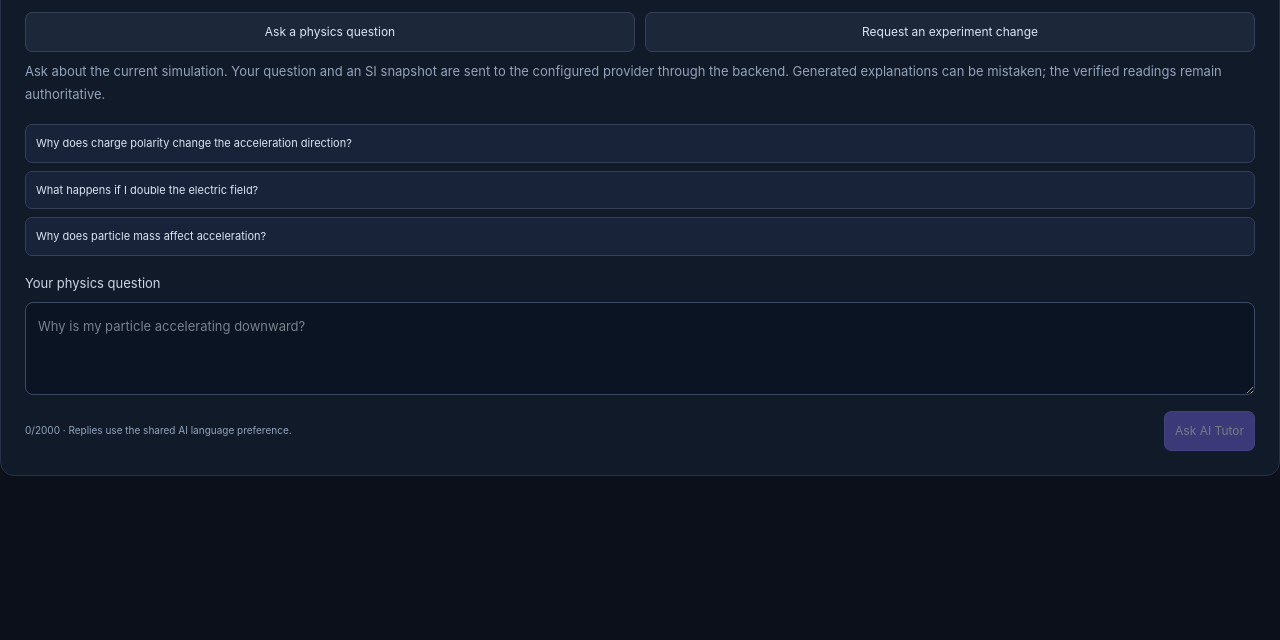
Test case: renders before/after physics without mutation and explicitly confirms
Click the button "Request an experiment change" at {"x": 950, "y": 32}, box 645,12 -> 1255,52
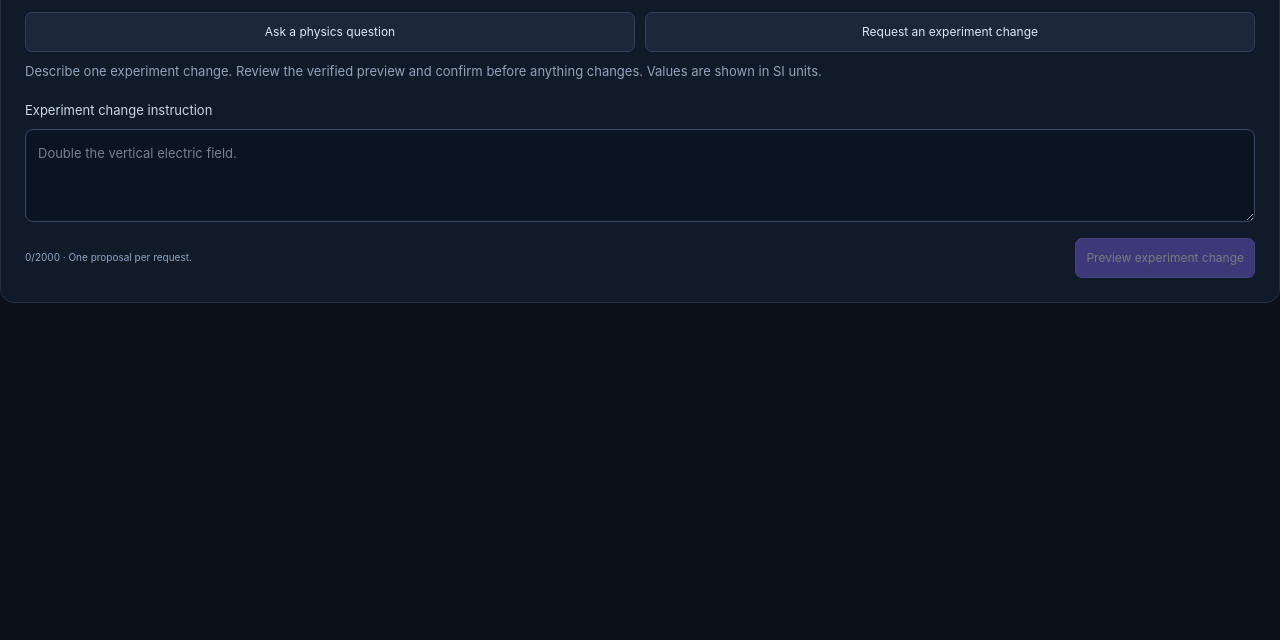
Type "Double Ey." into the text box labelled "Experiment change instruction" at {"x": 640, "y": 176}, box 25,129 -> 1255,222
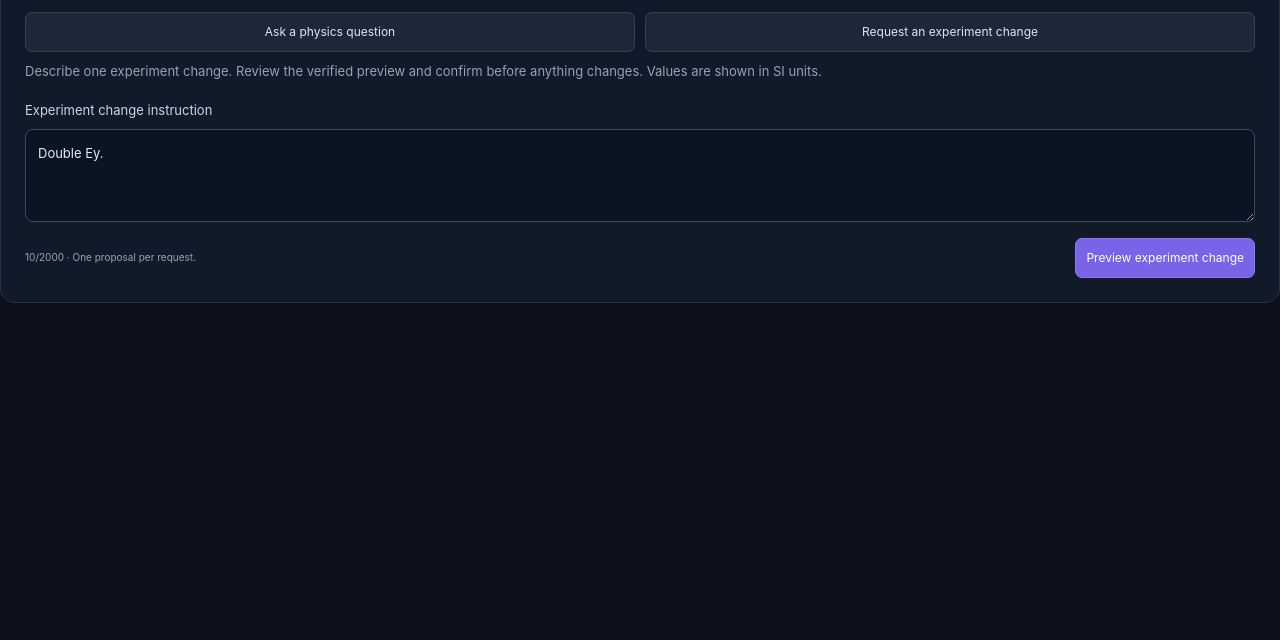
Click the button "Preview experiment change" at {"x": 1165, "y": 258}, box 1075,238 -> 1255,278
(page scrolled)
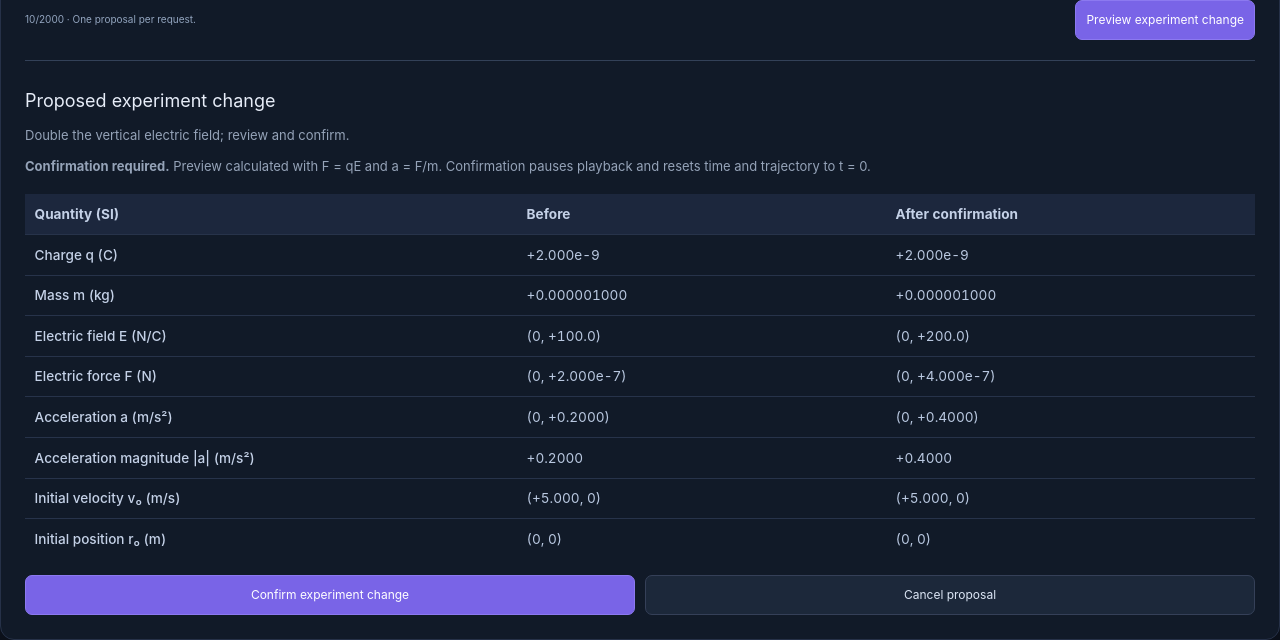
Now the element named "AI action proposal" shows "Charge q (C)", box 35,247 -> 118,263
Now the element named "AI action proposal" shows "Electric force F (N)", box 35,368 -> 157,384
Now the element named "AI action proposal" shows "+0.2000", box 527,450 -> 583,466
Click the button "Confirm experiment change" at {"x": 330, "y": 595}, box 25,575 -> 635,615
(page scrolled)
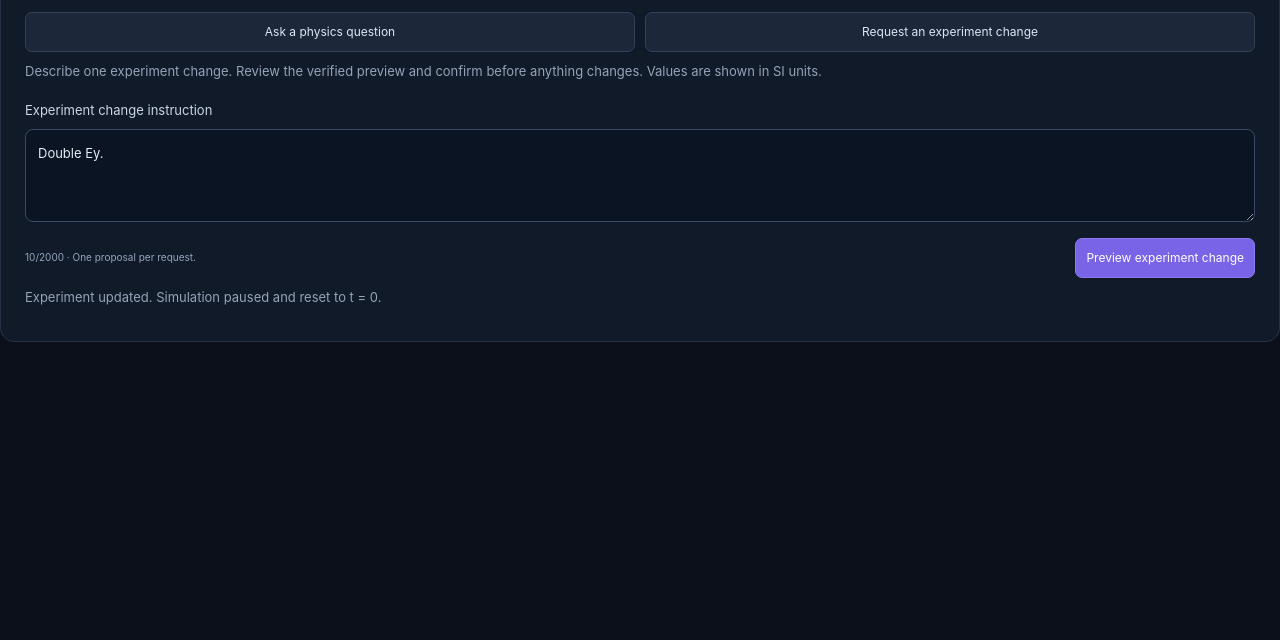
Now the text "Experiment updated. Simulation paused and reset to t = 0." is shown, box 25,289 -> 381,305
